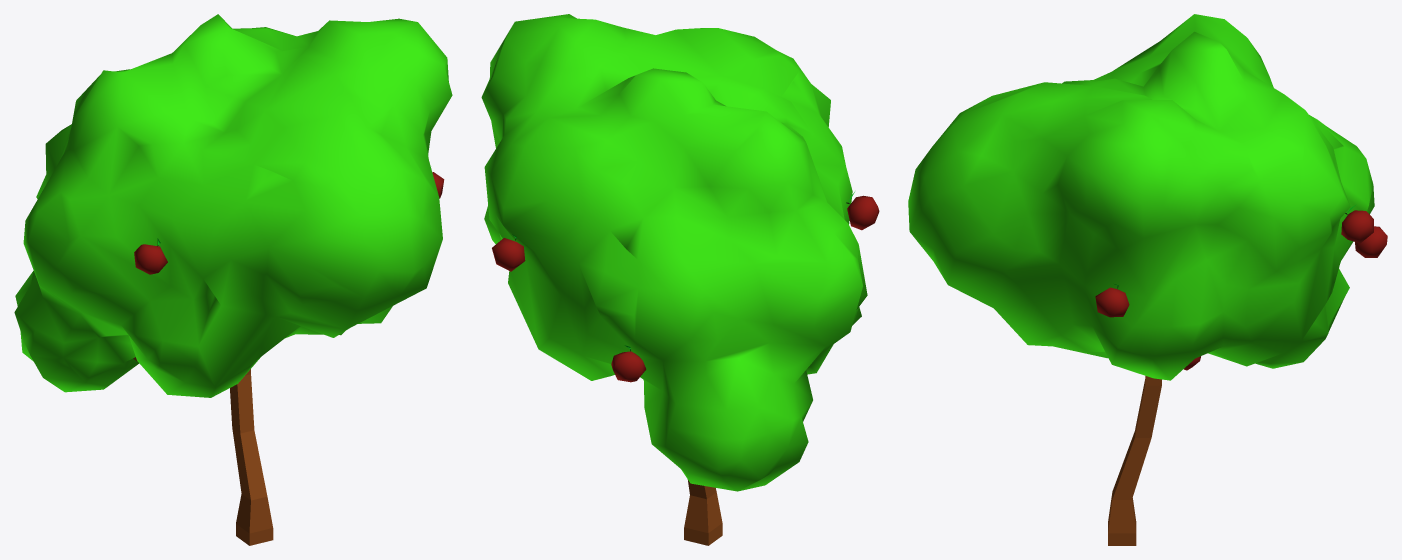
The model's file is SM_AppleTree_001_LOD4.fbx.
The picture shows the model from 3 angles, left to right: view 1: azimuth 30°, elevation 25°; view 2: azimuth 150°, elevation 25°; view 3: azimuth 270°, elevation 25°; orthographic projection. The views are drawn at different scales.
Parts seen in each view (by area): view 1: AppleTree; view 2: AppleTree; view 3: AppleTree.
Part boxes in pixels (<box>): AppleTree: <box>14,14,452,545</box>; AppleTree: <box>481,14,879,545</box>; AppleTree: <box>908,14,1387,545</box>.
Size of the model in its own units: 290 by 345 by 301.
